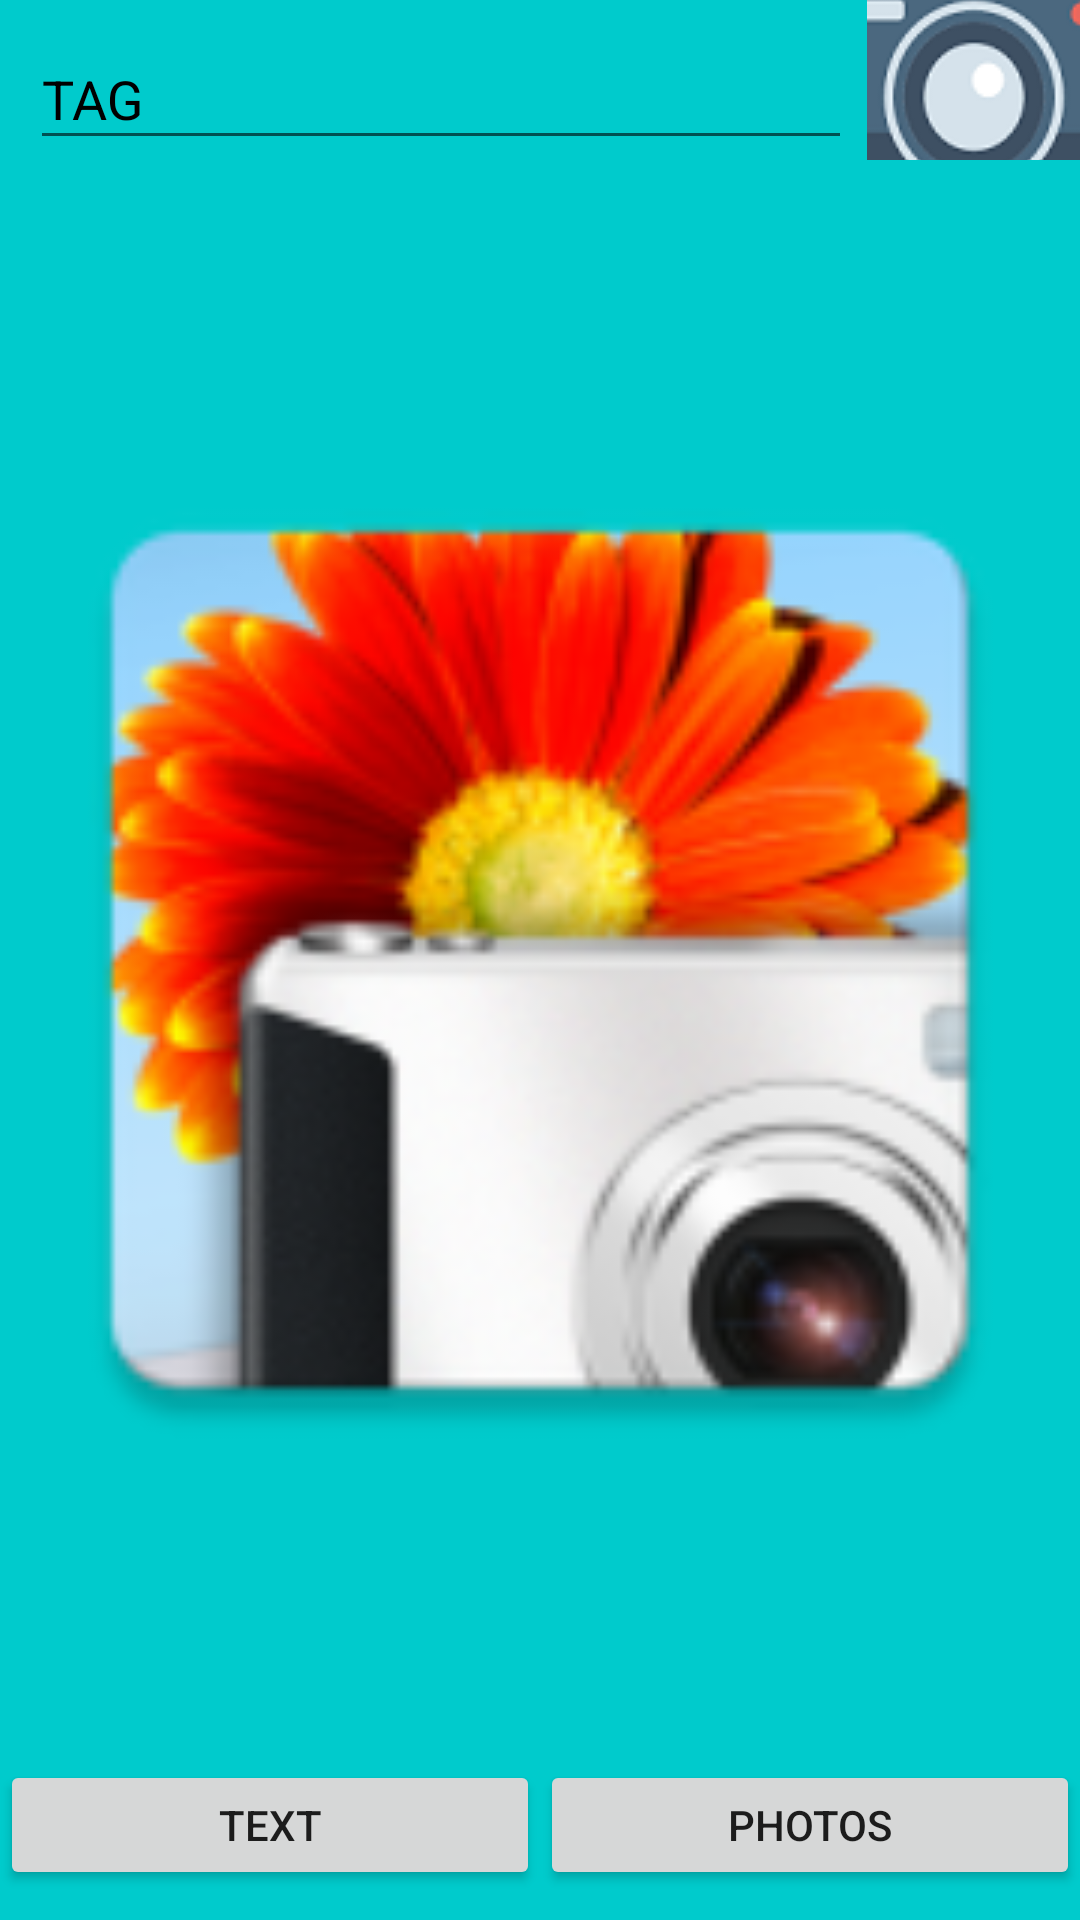

Point at icon controls on the screen. Image size 1080 × 1920, points as [x,y].
Button Camera: [973,80]
